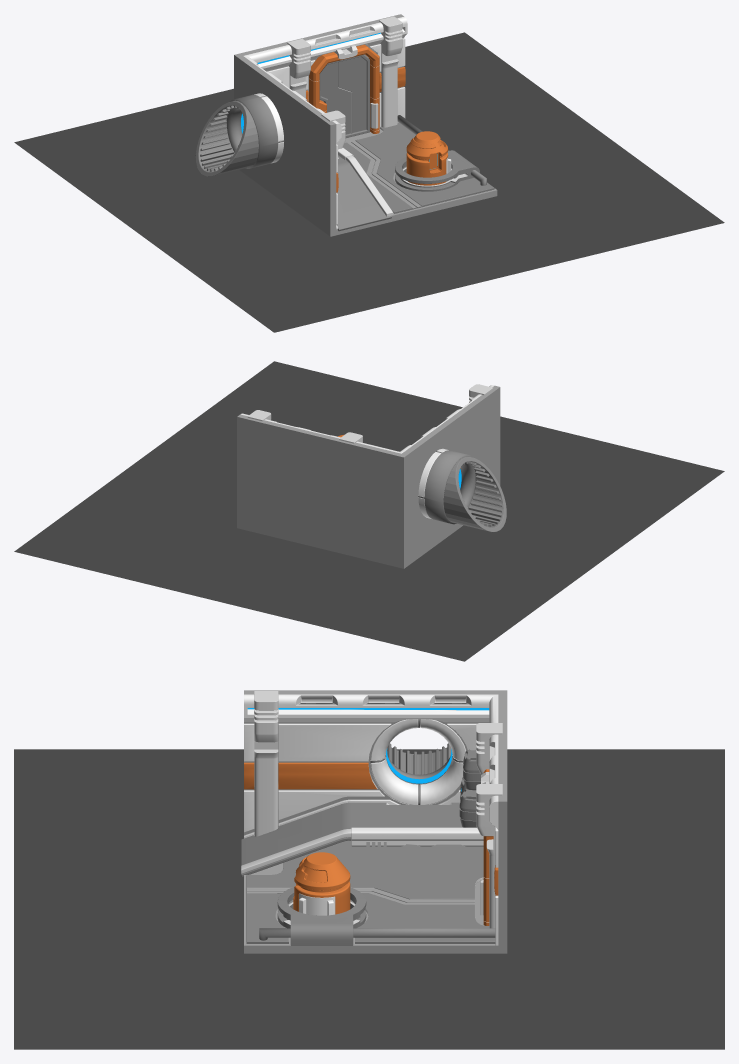
The model's file is scifi_corridor_applied_modifiers.gltf.
3 renders of one model, top to bottom at view 1: azimuth 30°, elevation 25°; view 2: azimuth 150°, elevation 25°; view 3: azimuth 270°, elevation 25°, orthographic. The views are drawn at different scales.
Visible parts, largest first — view 1: Background, Walls, Wall Structure, Floor, Generator, Cylinder.006, Platform, Cylinder.003, Door, Walls.003, Panels, Walls.004 (+1 smaller); view 2: Background, Walls, Cylinder.006, Cylinder.003, Wall Structure, Entrance; view 3: Background, Floor, Wall Structure, Panels, Walls, Platform, Generator, Entrance, Vert, Cylinder, Cylinder.006, Walls.006 (+4 smaller).
Boxes of the visible parts, <box> form: Background: <box>14,32,724,332</box>; Walls: <box>234,14,497,236</box>; Wall Structure: <box>243,16,407,192</box>; Floor: <box>343,122,494,213</box>; Generator: <box>395,131,479,191</box>; Cylinder.006: <box>195,100,258,176</box>; Platform: <box>336,155,391,231</box>; Cylinder.003: <box>226,94,284,168</box>; Door: <box>309,44,379,133</box>; Walls.003: <box>338,54,369,136</box>; Panels: <box>267,38,405,229</box>; Walls.004: <box>319,61,352,137</box>; Background: <box>14,361,724,661</box>; Walls: <box>237,385,500,568</box>; Cylinder.006: <box>443,456,506,532</box>; Cylinder.003: <box>418,450,475,524</box>; Wall Structure: <box>240,384,493,453</box>; Entrance: <box>418,448,448,518</box>; Background: <box>14,749,724,1049</box>; Floor: <box>246,840,495,943</box>; Wall Structure: <box>244,691,502,928</box>; Panels: <box>244,723,498,945</box>; Walls: <box>244,690,507,953</box>; Platform: <box>241,802,462,877</box>; Generator: <box>277,852,366,945</box>; Entrance: <box>370,719,465,804</box>; Vert: <box>351,827,483,846</box>; Cylinder: <box>259,928,495,940</box>; Cylinder.006: <box>387,743,451,774</box>; Walls.006: <box>241,828,351,873</box>.
Bounding box in the file's own units: 22.36 × 5.35 × 22.36.
